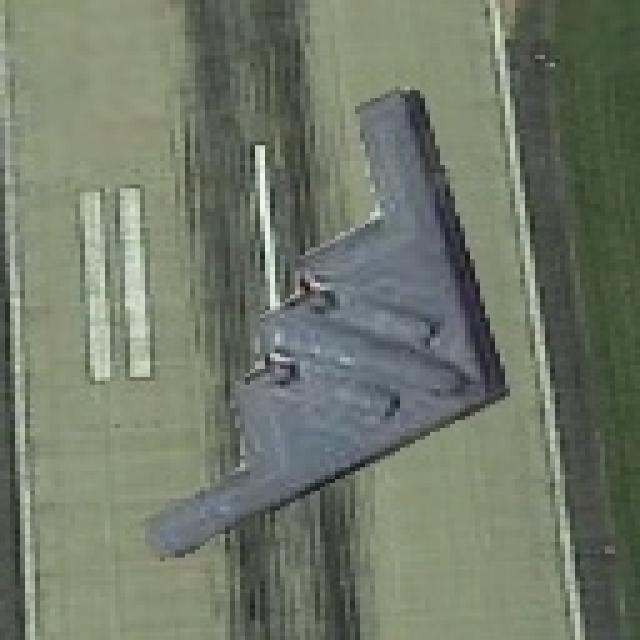B-2_TopDown: (135, 79, 510, 562)
